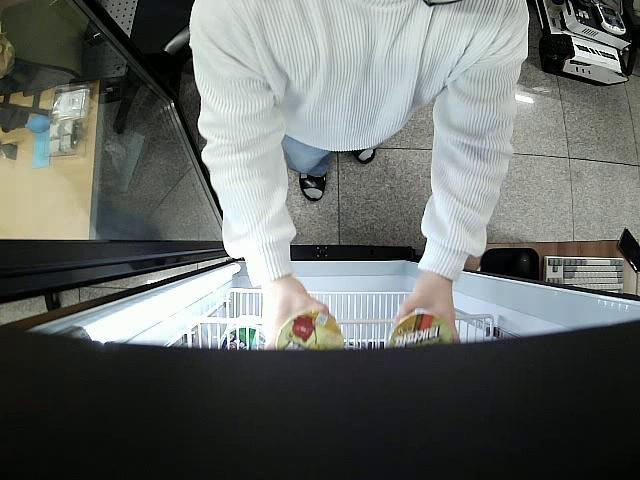04_chapagetti_S: (278, 308, 345, 356), (388, 311, 455, 350)
